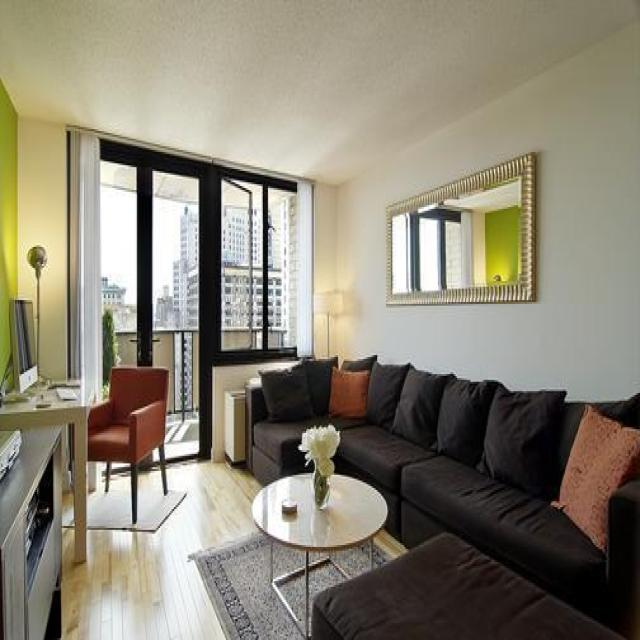chair: (86, 365, 169, 524)
cupboard: (0, 423, 63, 638)
curtains: (66, 128, 102, 484)
lamps: (26, 243, 48, 397), (312, 289, 343, 357)
pillows: (550, 400, 639, 554)
plants: (297, 422, 340, 507)
pots: (311, 465, 330, 509)
rugs: (187, 528, 395, 638), (61, 471, 187, 532)
sofa: (244, 353, 639, 638)
table: (0, 380, 93, 564)
television: (5, 298, 38, 399)
